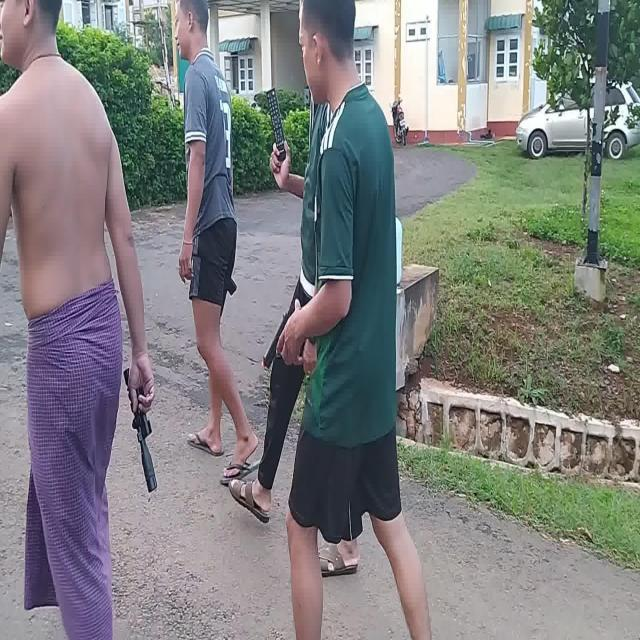gun: (260, 314, 288, 366)
